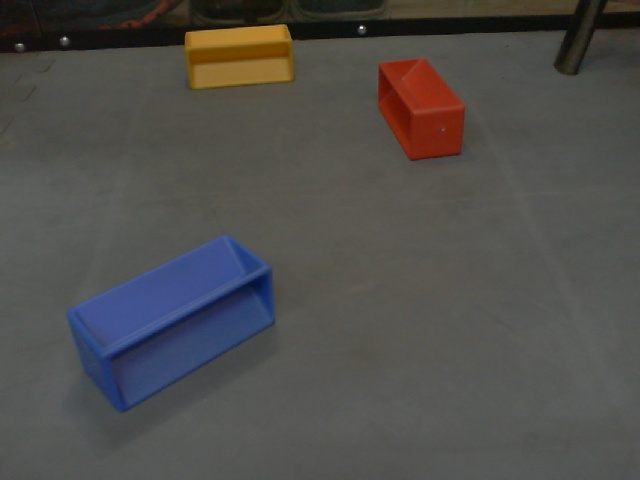BlueSample: (65, 235, 276, 417)
RedSample: (376, 54, 468, 163)
YellowSample: (180, 21, 296, 92)
